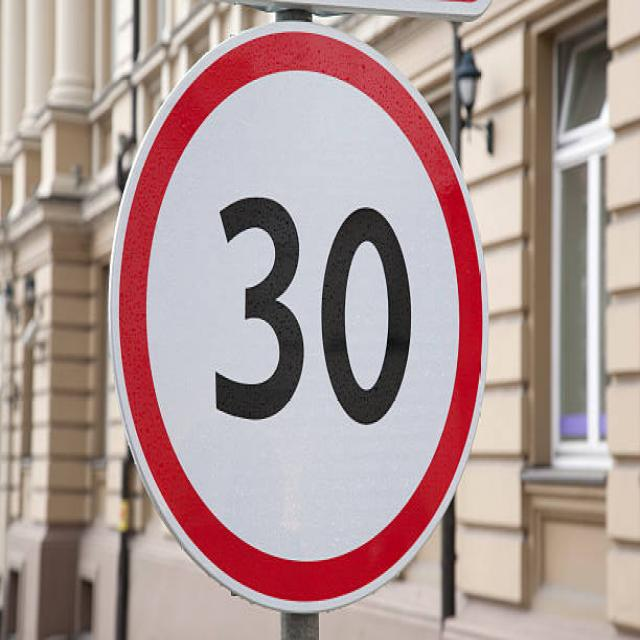speed_limit_30: (109, 17, 502, 619)
